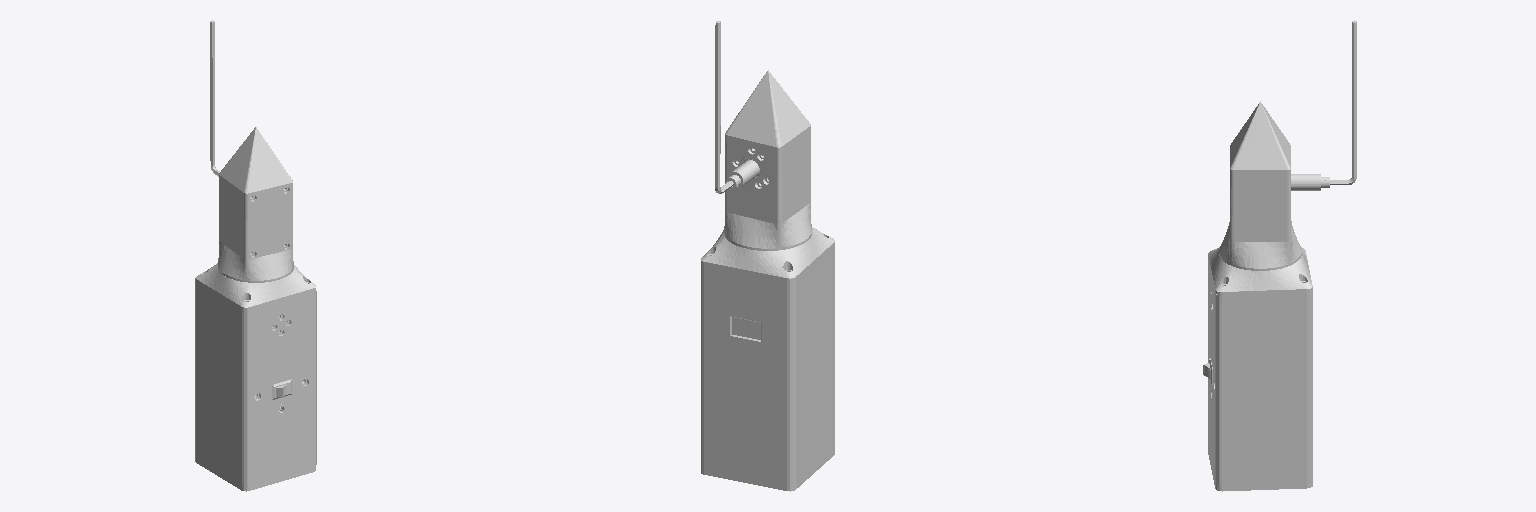
URDF robot description (BigBen):
<?xml version="1.0" encoding="utf-8"?>
<!-- This URDF was automatically created by SolidWorks to URDF Exporter! Originally created by Stephen Brawner (brawner@gmail.com) 
     Commit Version: 1.6.0-4-g7f85cfe  Build Version: 1.6.7995.38578
     For more information, please see http://wiki.ros.org/sw_urdf_exporter -->
<robot
  name="BigBen">
  <link
    name="base_link">
    <inertial>
      <origin
        xyz="-0.000260719497971795 -0.000356940015907137 0.0976767245989014"
        rpy="0 0 0" />
      <mass
        value="0.459277574413663" />
      <inertia
        ixx="0.00165618568525104"
        ixy="1.82368084661533E-05"
        ixz="-9.27277565613475E-07"
        iyy="0.00143966985459277"
        iyz="1.10833170385992E-05"
        izz="0.000571257519946692" />
    </inertial>
    <visual>
      <origin
        xyz="0 0 0"
        rpy="0 0 0" />
      <geometry>
        <mesh
          filename="package://BigBen/meshes/base_link.STL" />
      </geometry>
      <material
        name="">
        <color
          rgba="0.894117647058823 0.894117647058823 0.894117647058823 1" />
      </material>
    </visual>
    <collision>
      <origin
        xyz="0 0 0"
        rpy="0 0 0" />
      <geometry>
        <mesh
          filename="package://BigBen/meshes/base_link.STL" />
      </geometry>
    </collision>
  </link>
  <link
    name="Arm_Link">
    <inertial>
      <origin
        xyz="1.08238645446512E-06 0.000766710874388177 0.072190292932981"
        rpy="0 0 0" />
      <mass
        value="0.244661712874135" />
      <inertia
        ixx="0.000323837294512668"
        ixy="-2.13095419861229E-10"
        ixz="-1.14052093536268E-08"
        iyy="0.000337050072511274"
        iyz="4.04515837786719E-07"
        izz="0.000108195324444289" />
    </inertial>
    <visual>
      <origin
        xyz="0 0 0"
        rpy="0 0 0" />
      <geometry>
        <mesh
          filename="package://BigBen/meshes/Arm_Link.STL" />
      </geometry>
      <material
        name="">
        <color
          rgba="0.894117647058823 0.894117647058823 0.894117647058823 1" />
      </material>
    </visual>
    <collision>
      <origin
        xyz="0 0 0"
        rpy="0 0 0" />
      <geometry>
        <mesh
          filename="package://BigBen/meshes/Arm_Link.STL" />
      </geometry>
    </collision>
  </link>
  <joint
    name="Joint_Arm"
    type="revolute">
    <origin
      xyz="0 0 0.166"
      rpy="0 0 0" />
    <parent
      link="base_link" />
    <child
      link="Arm_Link" />
    <axis
      xyz="0 0 -1" />
    <limit
      lower="0"
      upper="0"
      effort="0"
      velocity="0" />
  </joint>
  <link
    name="Pendulum_Link">
    <inertial>
      <origin
        xyz="0.0233697337889704 3.37952244859885E-05 0.0279255943312069"
        rpy="0 0 0" />
      <mass
        value="0.00623894201938813" />
      <inertia
        ixx="4.05859038751154E-07"
        ixy="1.44466598798118E-10"
        ixz="-5.04481229265661E-07"
        iyy="5.87818865360942E-06"
        iyz="6.49246725990351E-15"
        izz="5.57540989191825E-06" />
    </inertial>
    <visual>
      <origin
        xyz="0 0 0"
        rpy="0 0 0" />
      <geometry>
        <mesh
          filename="package://BigBen/meshes/Pendulum_Link.STL" />
      </geometry>
      <material
        name="">
        <color
          rgba="0.894117647058823 0.894117647058823 0.894117647058823 1" />
      </material>
    </visual>
    <collision>
      <origin
        xyz="0 0 0"
        rpy="0 0 0" />
      <geometry>
        <mesh
          filename="package://BigBen/meshes/Pendulum_Link.STL" />
      </geometry>
    </collision>
  </link>
  <joint
    name="Joint_Pendulum"
    type="continuous">
    <origin
      xyz="0 0.0247 0.093"
      rpy="1.5708 -1.5685 3.1416" />
    <parent
      link="Arm_Link" />
    <child
      link="Pendulum_Link" />
    <axis
      xyz="0 0 1" />
  </joint>
</robot>

--- Render facts (derived) ---
The picture shows the robot from 3 angles, left to right: view 1: azimuth 30°, elevation 25°; view 2: azimuth 150°, elevation 25°; view 3: azimuth 270°, elevation 25°; orthographic projection.
Model BigBen with 3 links and 2 joints (1 revolute, 1 continuous), rooted at base_link, posed every joint at zero.
Visible links, largest first — view 1: base_link, Arm_Link, Pendulum_Link; view 2: base_link, Arm_Link, Pendulum_Link; view 3: base_link, Arm_Link, Pendulum_Link.
Boxes of the visible links, left/top/right/bottom form: base_link: left=195, top=263, right=316, bottom=491; Arm_Link: left=218, top=127, right=293, bottom=282; Pendulum_Link: left=210, top=20, right=219, bottom=176; base_link: left=701, top=227, right=834, bottom=491; Arm_Link: left=724, top=70, right=811, bottom=250; Pendulum_Link: left=715, top=21, right=759, bottom=193; base_link: left=1203, top=247, right=1312, bottom=491; Arm_Link: left=1219, top=101, right=1301, bottom=270; Pendulum_Link: left=1291, top=20, right=1356, bottom=190.
Size in the robot's own frame: 0.0856 by 0.1257 by 0.4041 metres.
3 mesh visuals loaded from 3 distinct referenced files (3 binary STL).
